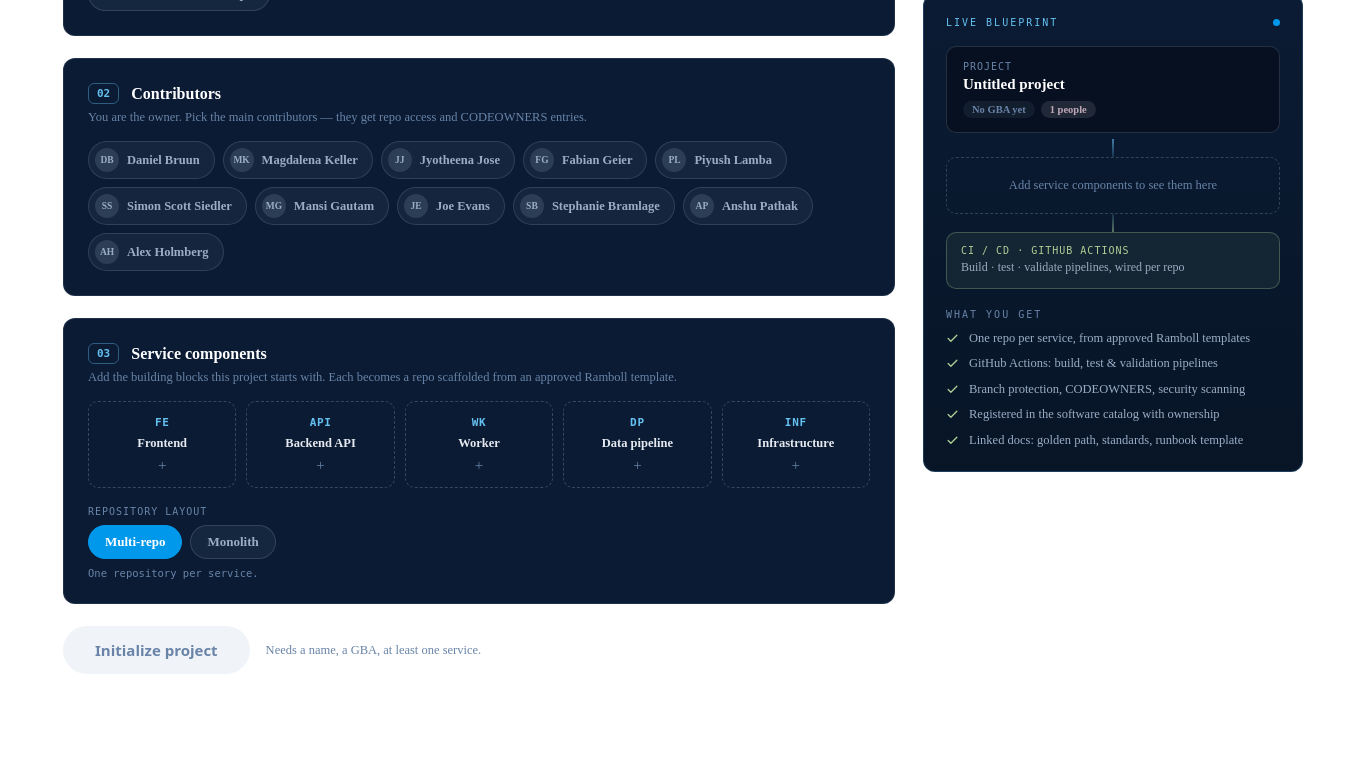
Test case: WizardScreen › service catalog availability (SPEC §14) › defaults a new Worker to the first AVAILABLE language (Python, not .NET)
(page scrolled)
Click the text "Worker" at (479, 444), box top-left (458, 436), bottom-right (500, 451)
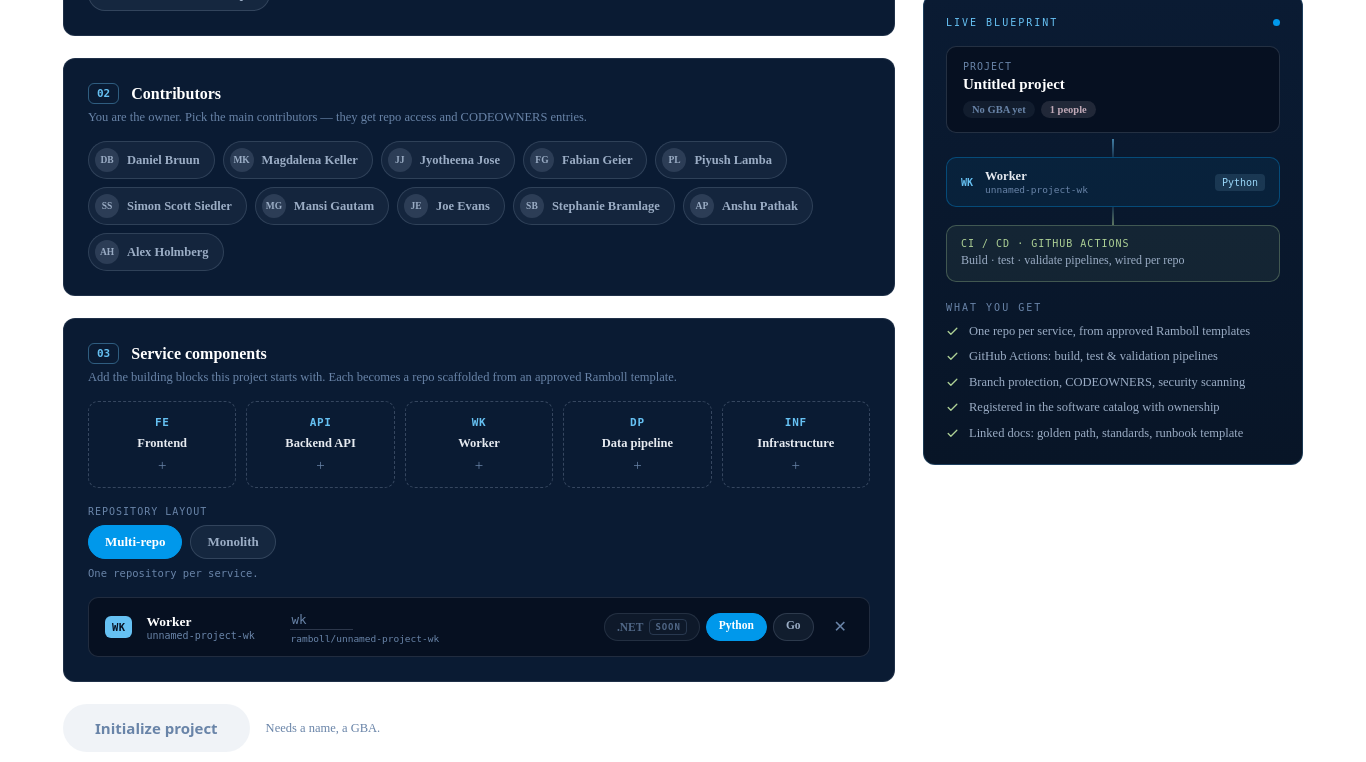
Check: the text "Python" is shown 2 times, box top-left (706, 613), bottom-right (767, 641); top-left (1215, 174), bottom-right (1265, 190)
